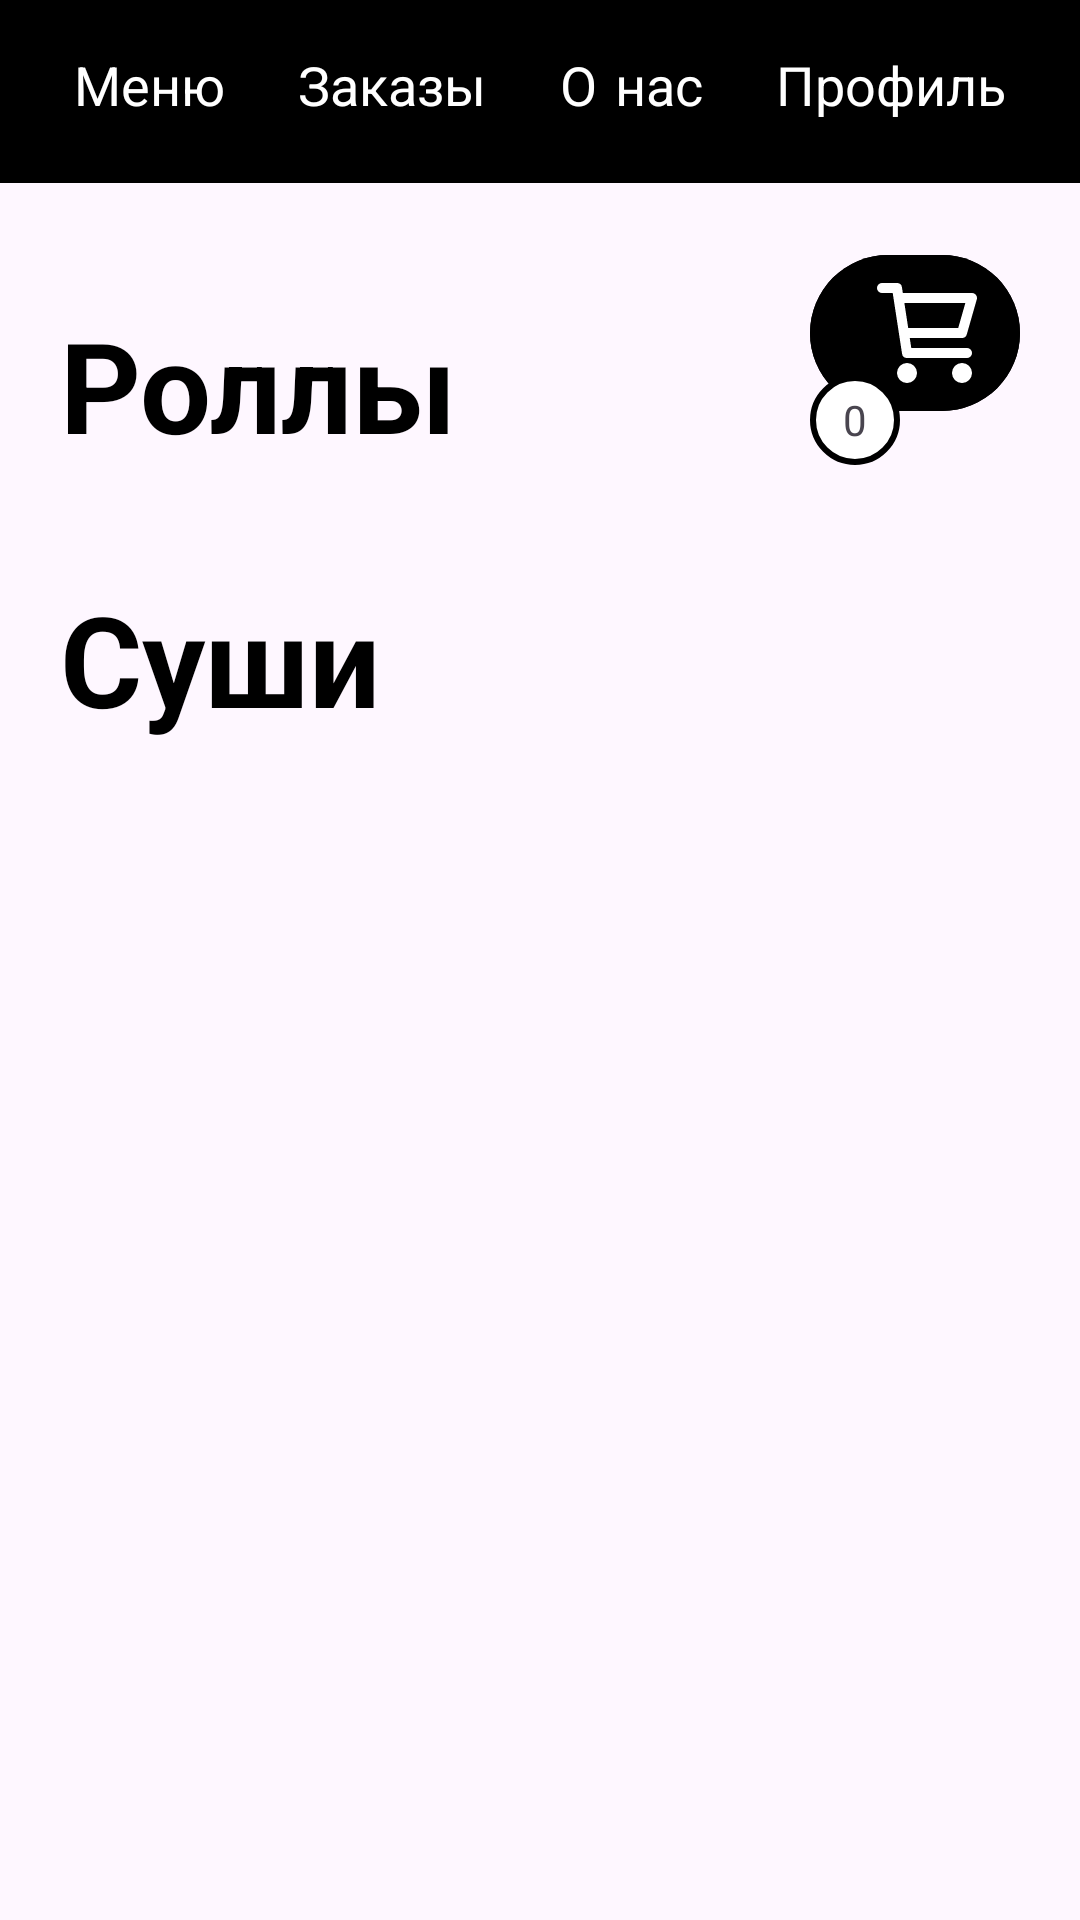

Locate icon controls on the screen. Image size 1080 x 1920, boxes as (x1, y1, x2, y2).
cart shopping: (810, 255, 1020, 423)
